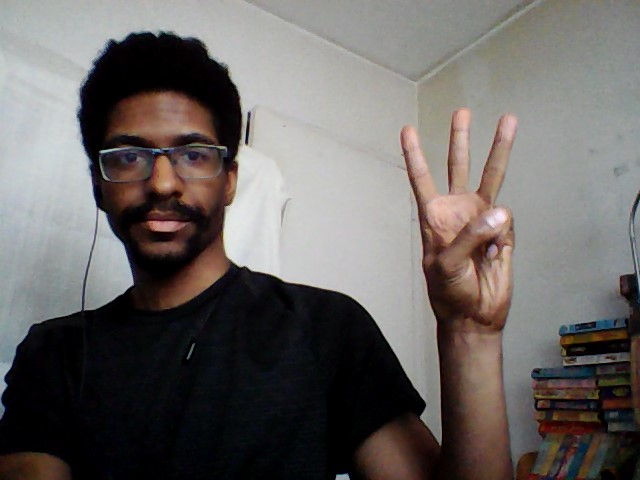w: (397, 101, 527, 333)
